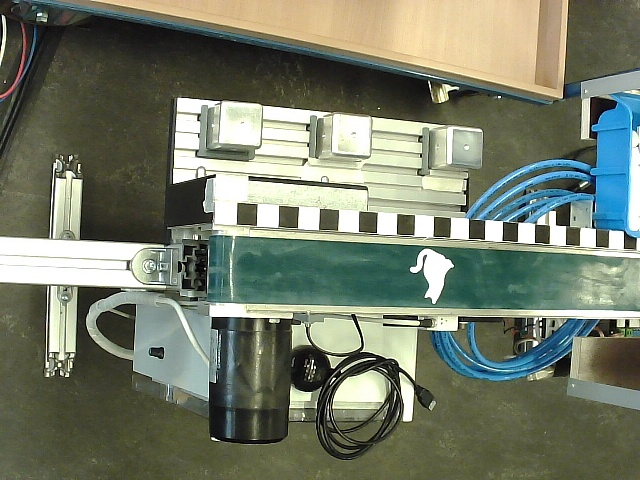cat: (409, 249, 455, 305)
